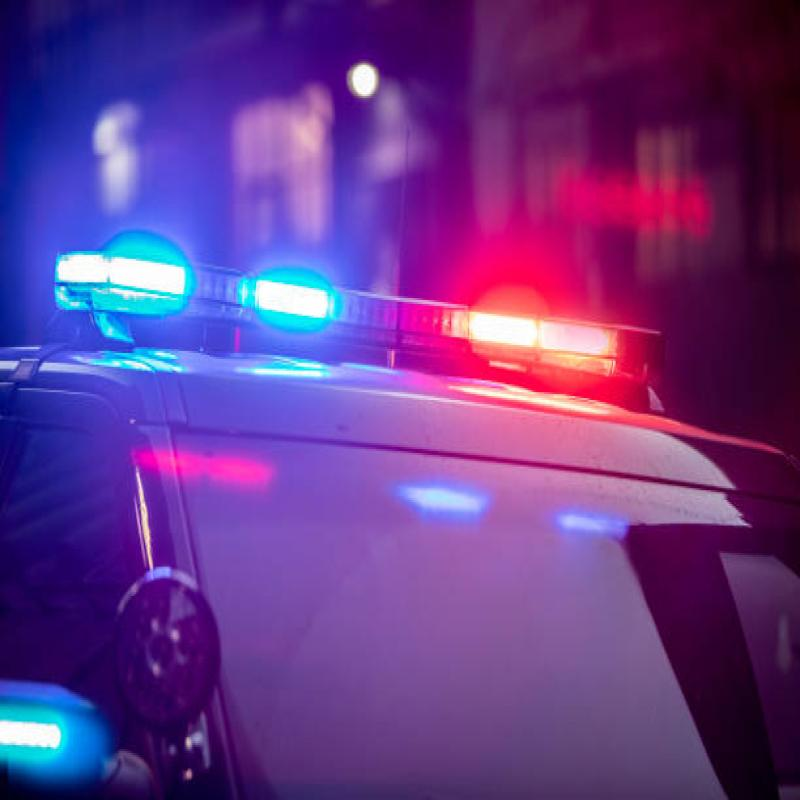AmbulanceSiren: (51, 230, 664, 414)
